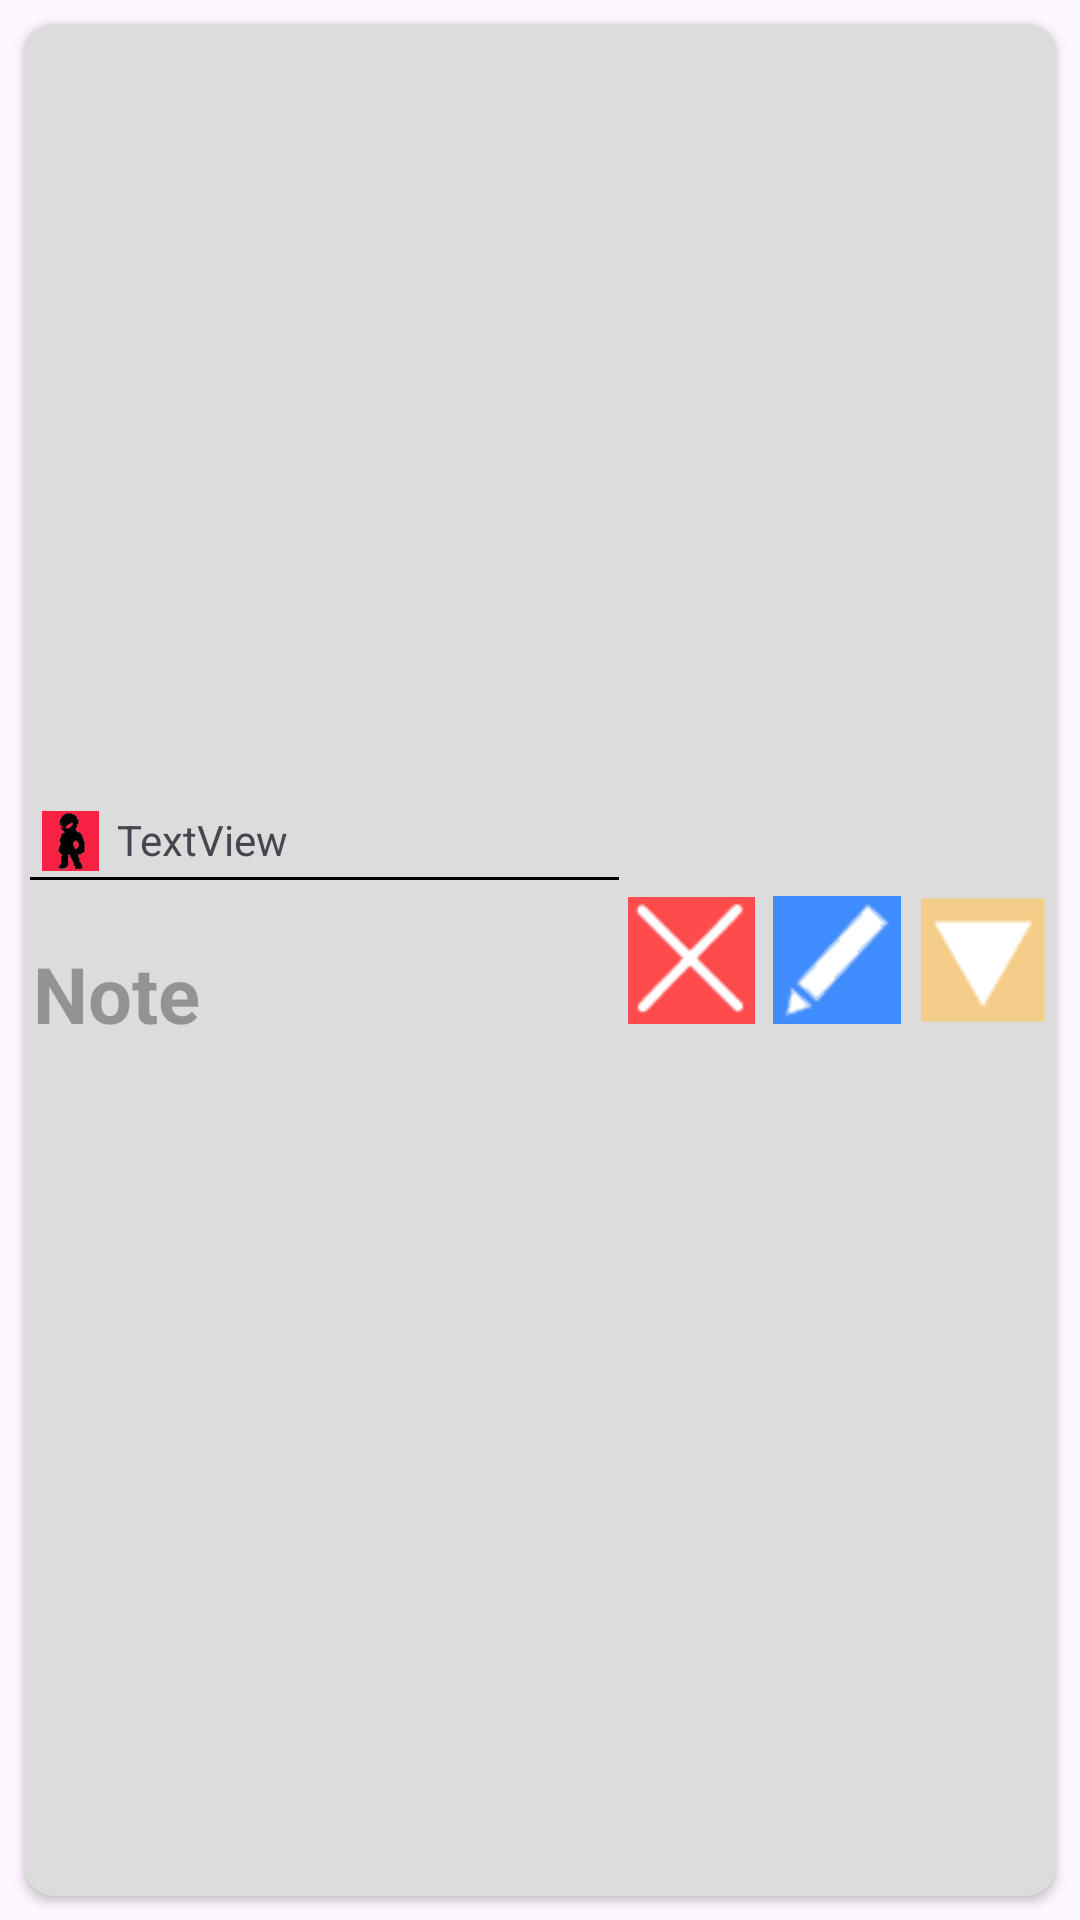

Named icons in this screenshot (1080 x 1920) and their centers, (x=x, y=y):
delete: (x=691, y=960)
edit: (x=837, y=960)
hero: (x=70, y=841)
